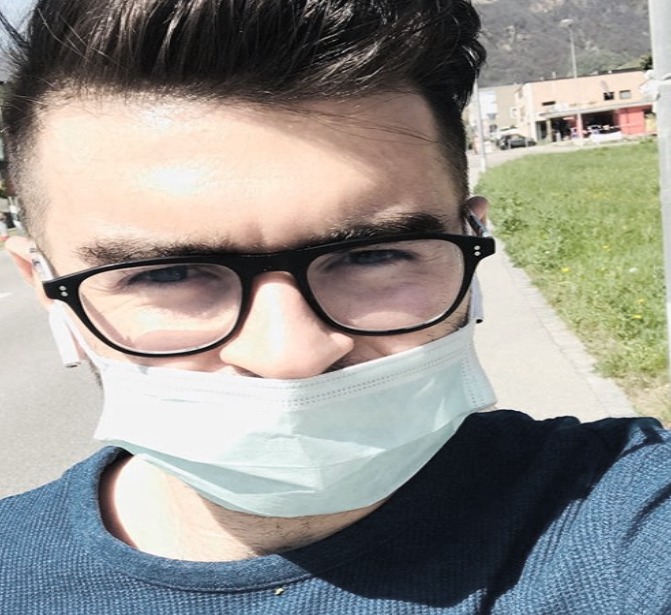mask_weared_incorrect: (1, 43, 502, 525)
